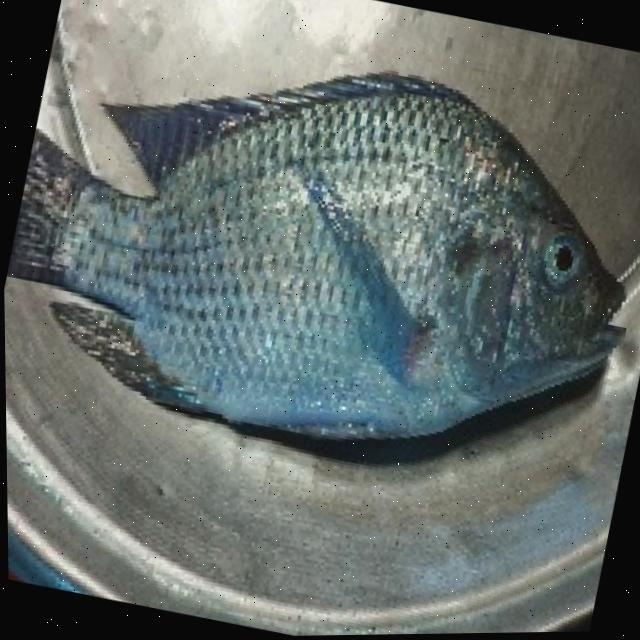Fresh: (37, 0, 640, 495)
